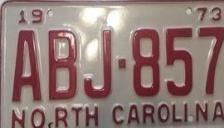5: (164, 26, 196, 96)
7: (197, 25, 224, 97)
8: (129, 27, 162, 99)
A: (10, 28, 44, 104)
B: (47, 29, 79, 101)
J: (82, 27, 116, 100)
